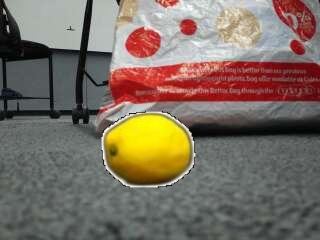lemon: (105, 115, 190, 185)
